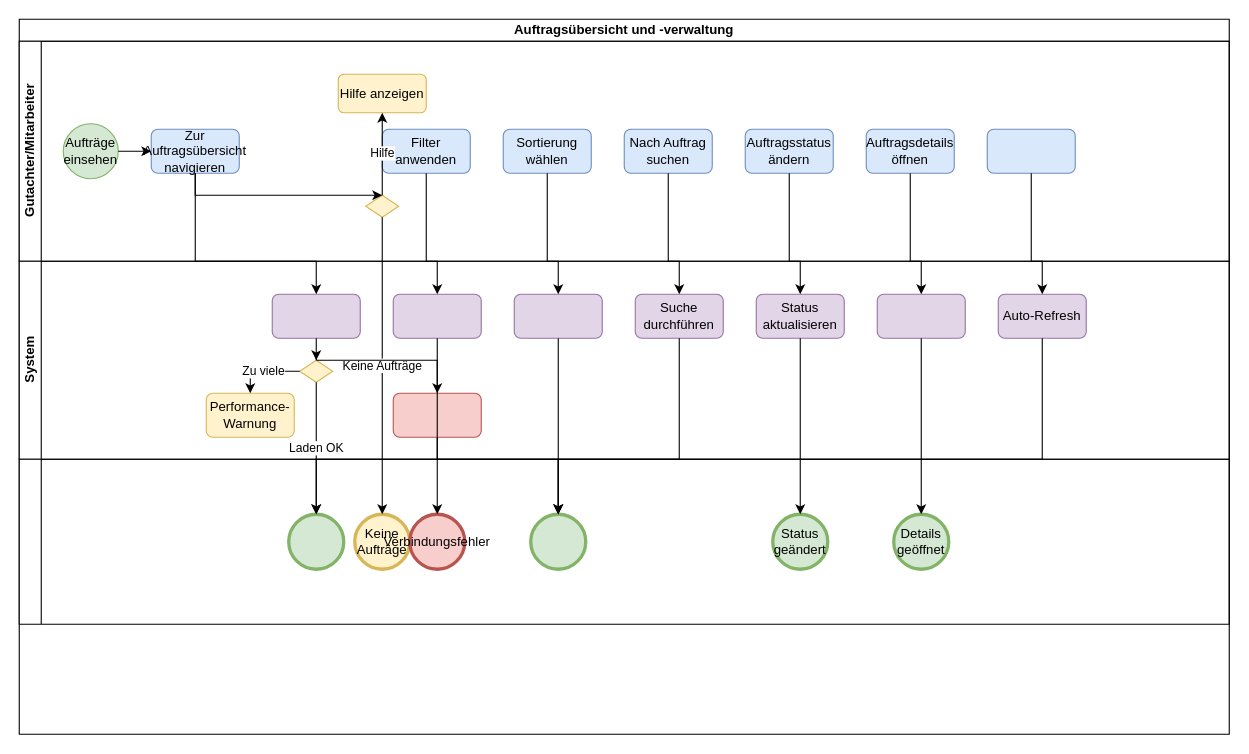
Some shapes in this 1249 by 754 pixel diagram are drawn without their labels. Each missing label, with the box of its shape:
Aufträge angezeigt: (287, 512, 345, 570)
Aufträge laden: (271, 293, 360, 338)
Daten filtern: (392, 293, 481, 338)
Daten sortieren: (513, 293, 602, 338)
Details bereitstellen: (876, 293, 965, 338)
Ergebnisse: (18, 458, 1229, 624)
Gefilterte Ansicht: (529, 512, 587, 570)
Liste aktualisieren: (986, 128, 1075, 173)
Offline-Indikator: (392, 392, 481, 437)
